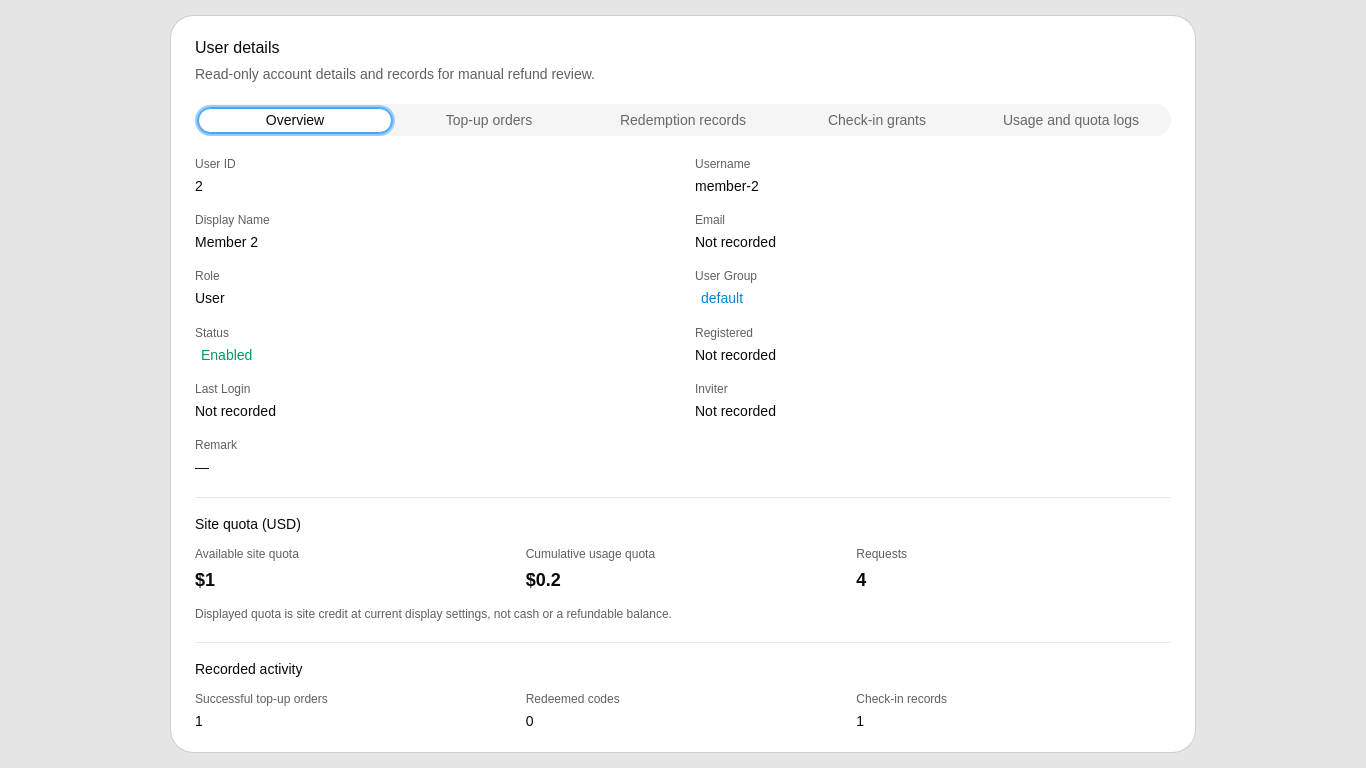
Test: a system grant log without a structured quota does not show zero quota or infer a grant from its content
expect the text "member-2" is shown: met, box [695,178,759,194]
Click the tab "Usage and quota logs": point(1071, 120) [974,108,1168,132]
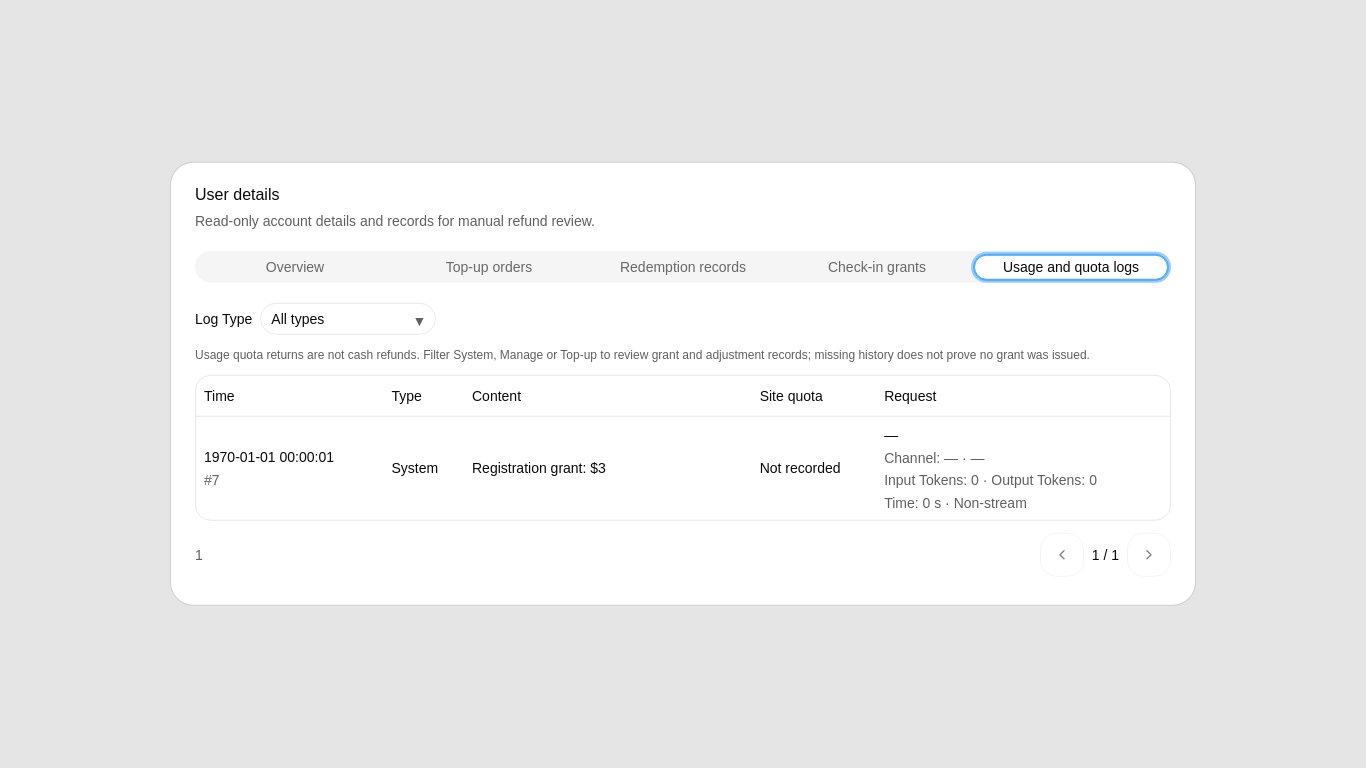
expect the text "Not recorded" is shown: met, box [752,416,876,520]
expect the text "$0" is gone: met
